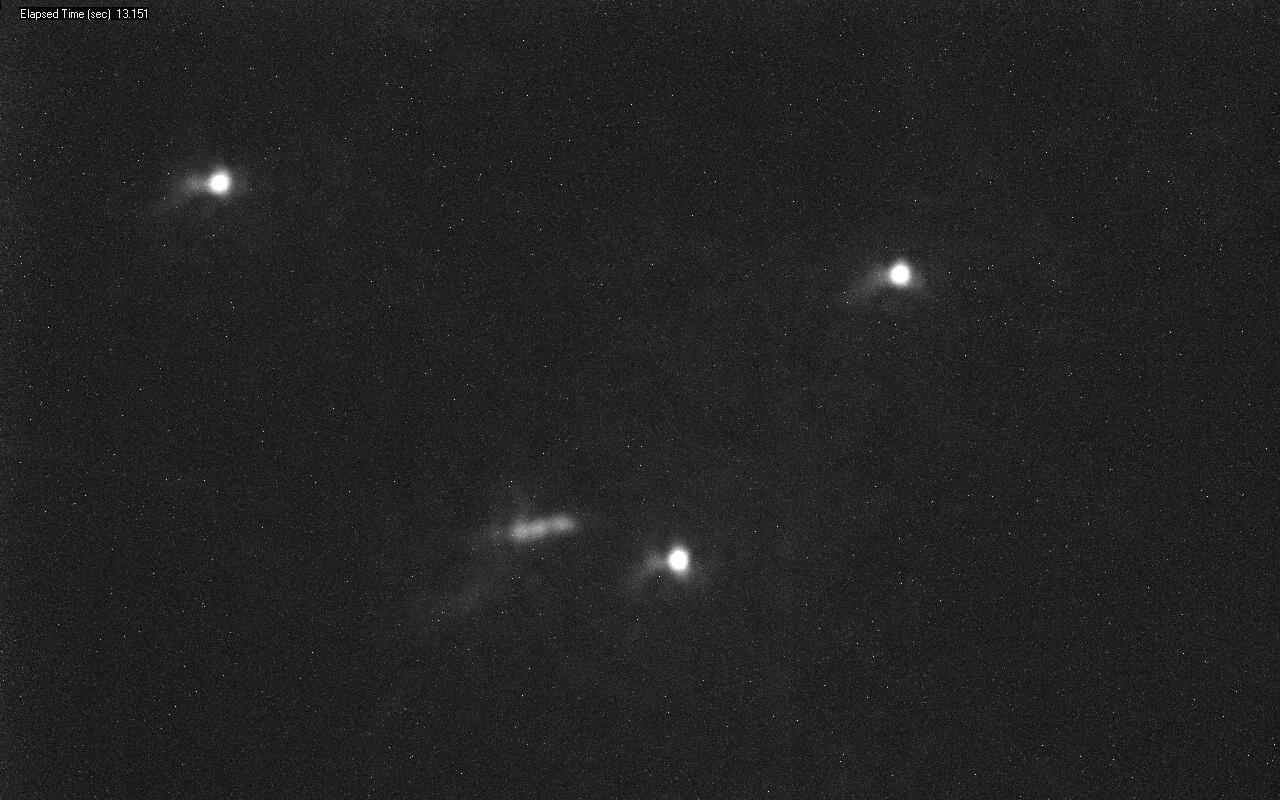Bead: (881, 260, 911, 285), (207, 170, 231, 196), (667, 547, 688, 572)
